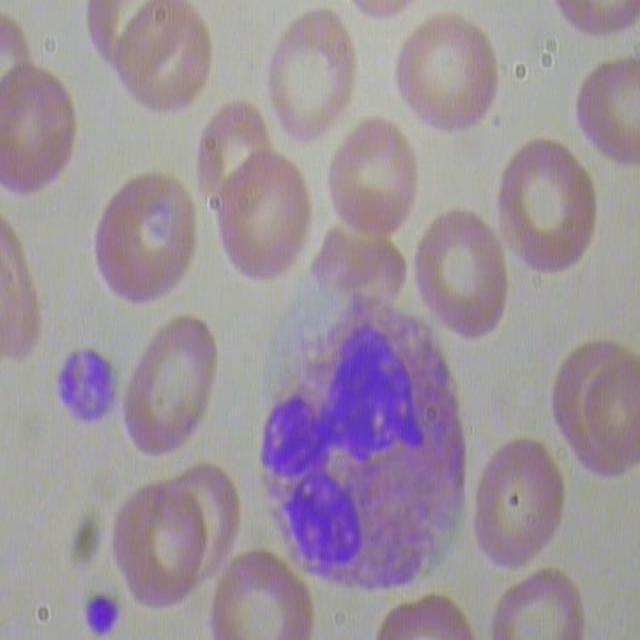Platelets: (42, 341, 121, 435), (77, 590, 123, 638)
RBC: (117, 316, 229, 463), (88, 162, 202, 306), (207, 152, 321, 296), (465, 428, 570, 575), (105, 476, 210, 623), (497, 138, 603, 278), (409, 210, 515, 350), (392, 11, 498, 150), (263, 3, 357, 149), (118, 0, 220, 125), (325, 119, 422, 245), (0, 55, 81, 200), (570, 52, 639, 180)
WBC: (251, 295, 482, 593)
